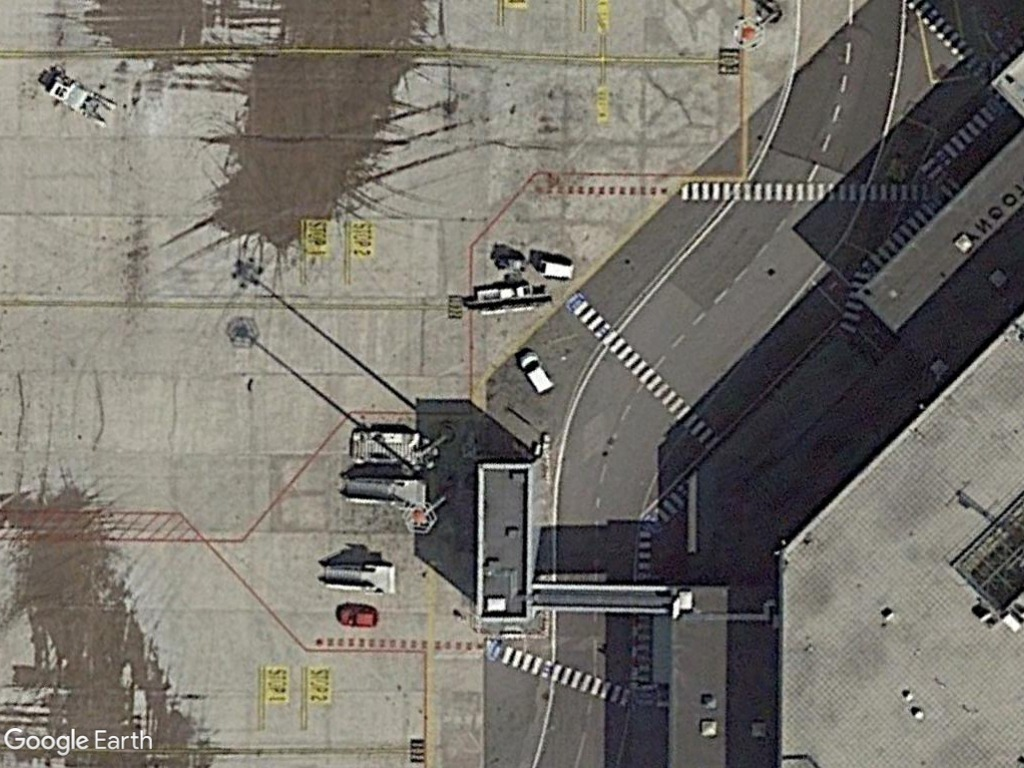other: (536, 254, 577, 285)
pushbacktruck: (40, 69, 120, 130), (346, 425, 430, 471)
stairtruck: (335, 469, 429, 517), (317, 557, 401, 600)
van: (511, 346, 559, 399)
